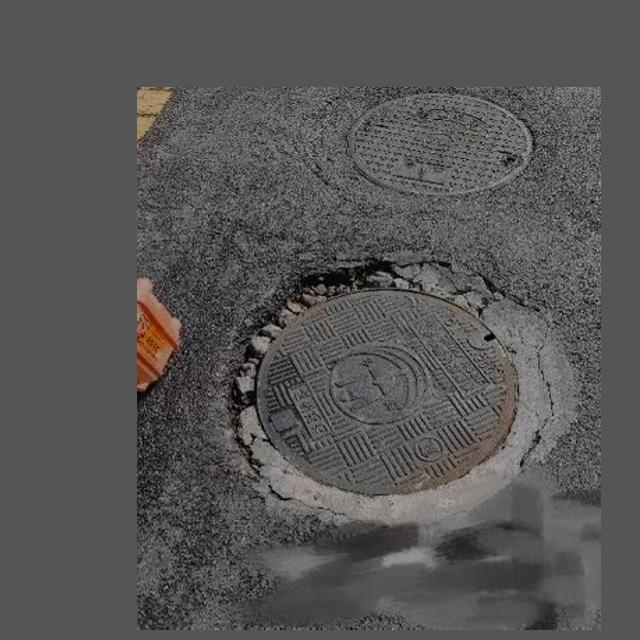circle: (229, 260, 572, 535)
good: (344, 91, 539, 197)
